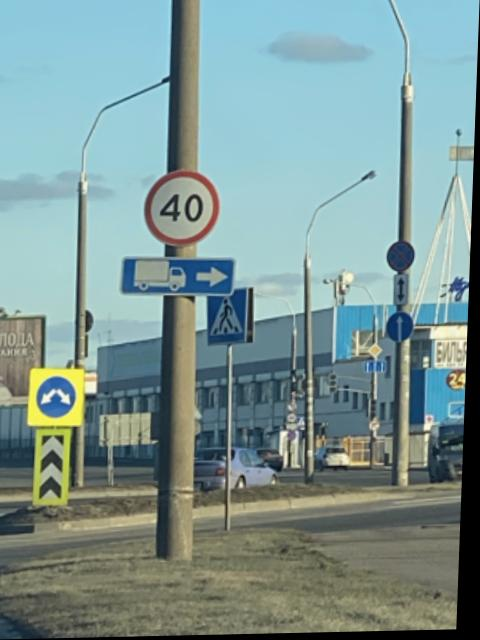limit40: (133, 164, 230, 257)
